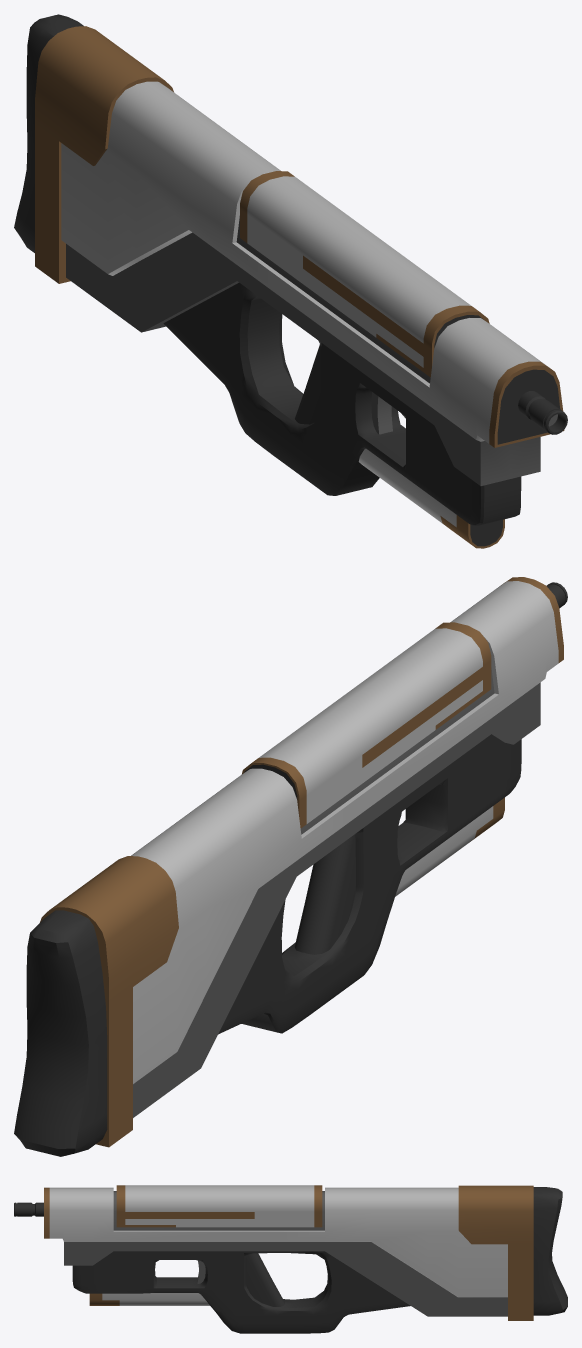
File: oil_slicker.glb
3 renders of one model, top to bottom at view 1: azimuth 30°, elevation 25°; view 2: azimuth 150°, elevation 25°; view 3: azimuth 270°, elevation 25°, orthographic. The views are drawn at different scales.
Parts seen in each view (by area): view 1: Cube.094; view 2: Cube.094; view 3: Cube.094.
Part boxes in pixels (box(x1,y1,x2,y2)): Cube.094: box(14, 14, 567, 548); Cube.094: box(14, 577, 567, 1156); Cube.094: box(14, 1185, 567, 1333).
Size of the model in its own units: 0.066 by 0.2241 by 0.8.
